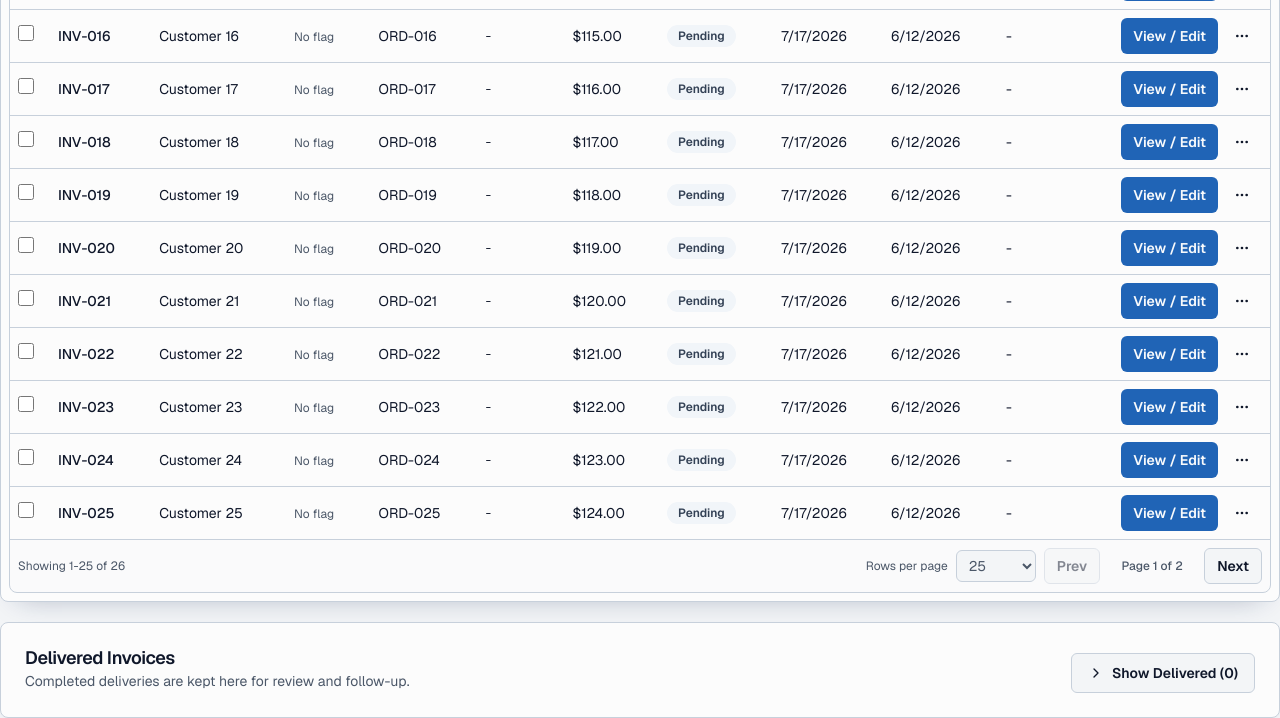
Test case: InvoicesPage › paginates active invoices after filtering
The width and height of the screenshot is (1280, 718).
(page scrolled)
Check: the text "INV-026" is not shown
Check: the text "Page 1 of 2" is shown, box [1122,558,1183,574]
Click the button with aria-label "Next page" at [1233, 566], box [1204,548,1262,584]
(page scrolled)
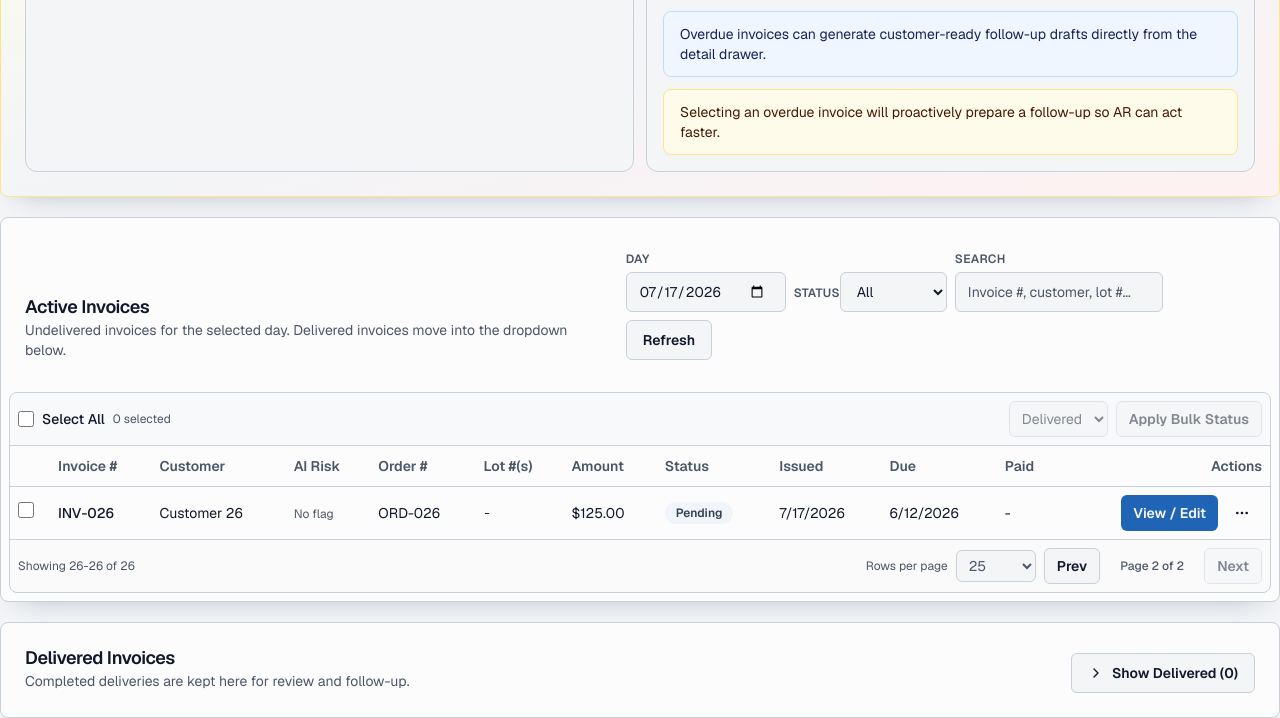
Check: the text "INV-026" is shown, box [50,486,152,538]
Type "INV-026" into the field with placeholder "Invoice #, customer, lot #..." at [1059, 292], box [955,272,1163,312]
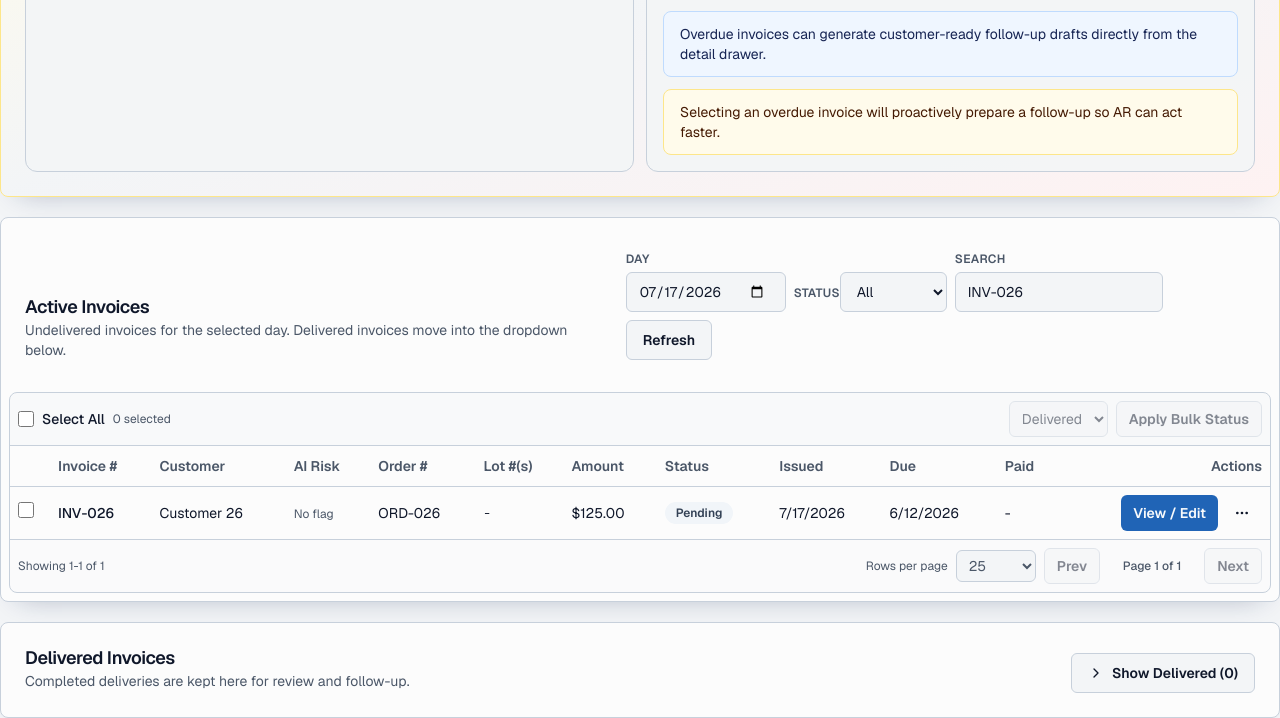
Check: the text "INV-026" is shown, box [50,486,152,538]
Check: the text "Page 1 of 1" is shown, box [1123,558,1181,574]
